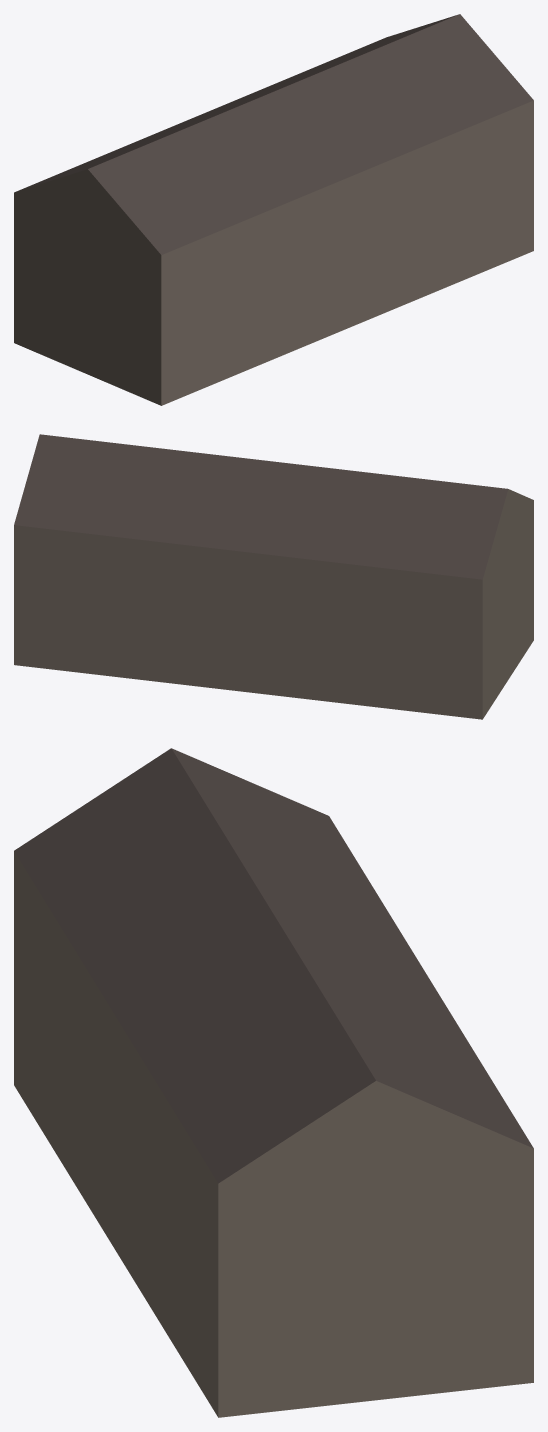
3 renders of one model, top to bottom at view 1: azimuth 30°, elevation 25°; view 2: azimuth 150°, elevation 25°; view 3: azimuth 270°, elevation 25°, orthographic. The views are drawn at different scales.
Visible parts, largest first — view 1: HP-w1200756568; view 2: HP-w1200756568; view 3: HP-w1200756568.
Boxes of the visible parts, box(x1,y1,x2,y2) form: HP-w1200756568: box(14, 14, 533, 405); HP-w1200756568: box(14, 434, 533, 719); HP-w1200756568: box(14, 748, 533, 1417).
Size of the model in its own units: 20.2 by 8.19 by 12.07.
